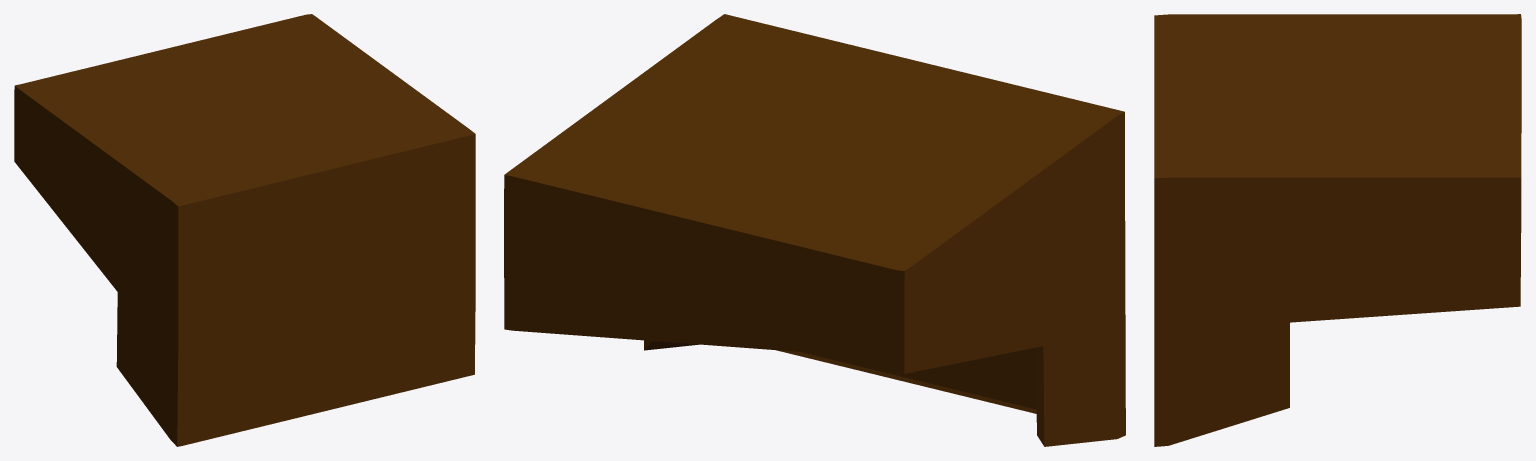
Rendered from normal_hair.fbx.
3 views of the same model, side by side, from view 1: azimuth 30°, elevation 25°; view 2: azimuth 150°, elevation 25°; view 3: azimuth 270°, elevation 25° (orthographic). The views are drawn at different scales.
Parts seen in each view (by area): view 1: Cube; view 2: Cube; view 3: Cube.
Boxes of the visible parts, x1=… form: Cube: x1=14, y1=14, x2=475, y2=446; Cube: x1=504, y1=14, x2=1125, y2=446; Cube: x1=1154, y1=14, x2=1521, y2=446.
Size of the model in its own units: 0.5325 by 0.4122 by 0.5068.
